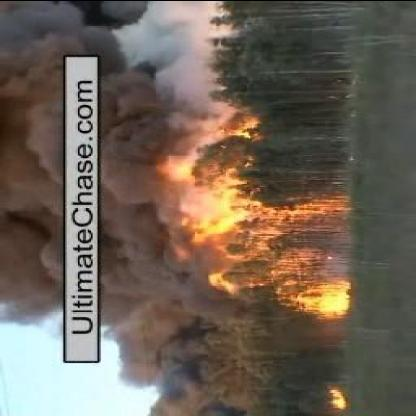-: (102, 43, 204, 372), (5, 53, 60, 316)
foggia-v2-map80-epoch100 - v1 4323: (314, 282, 346, 313)
